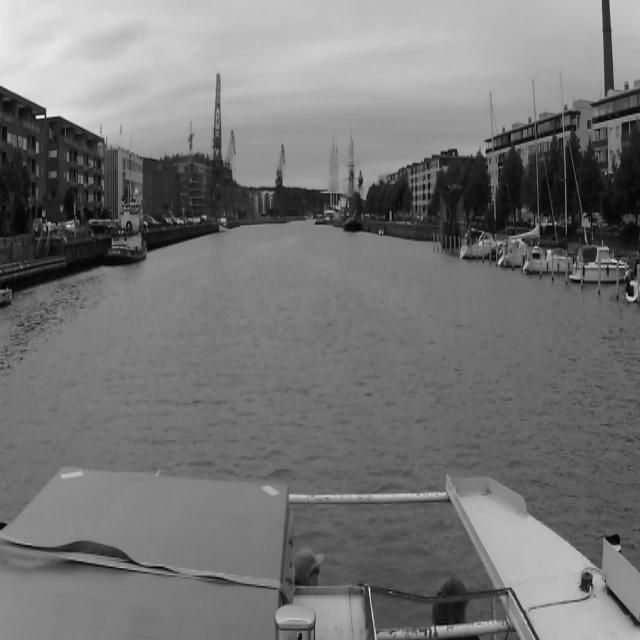ship: (521, 66, 567, 274), (108, 190, 148, 268), (568, 239, 624, 284), (344, 137, 360, 235), (324, 135, 340, 223), (219, 218, 226, 232)
